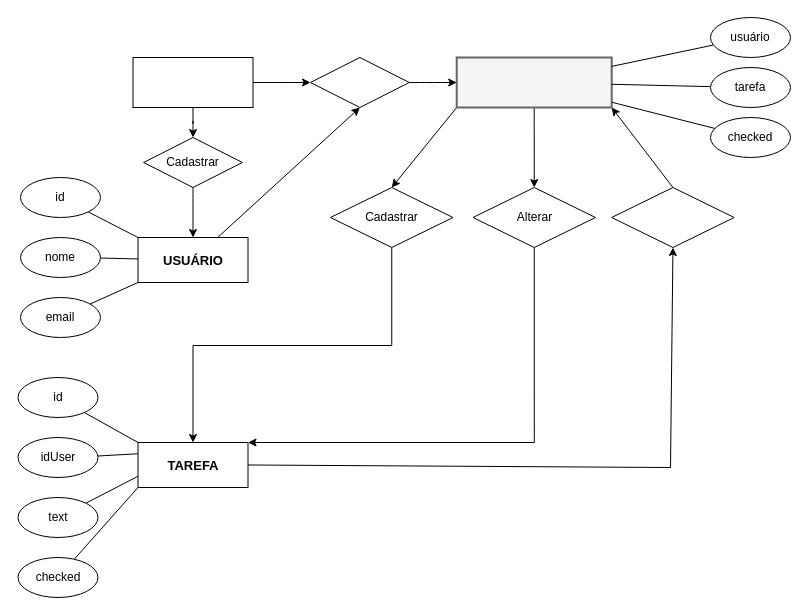
Some shapes in this 808 by 615 pixel diagram are drawn without their labels. Here are the shapes that lost their labels. From the top down, the centre of each, then its label:
At point (192, 82): "LOGIN".
At point (359, 82): "Carregar".
At point (533, 82): "LISTA DE TAREFAS (HOME)".
At point (672, 217): "Incrementar".
